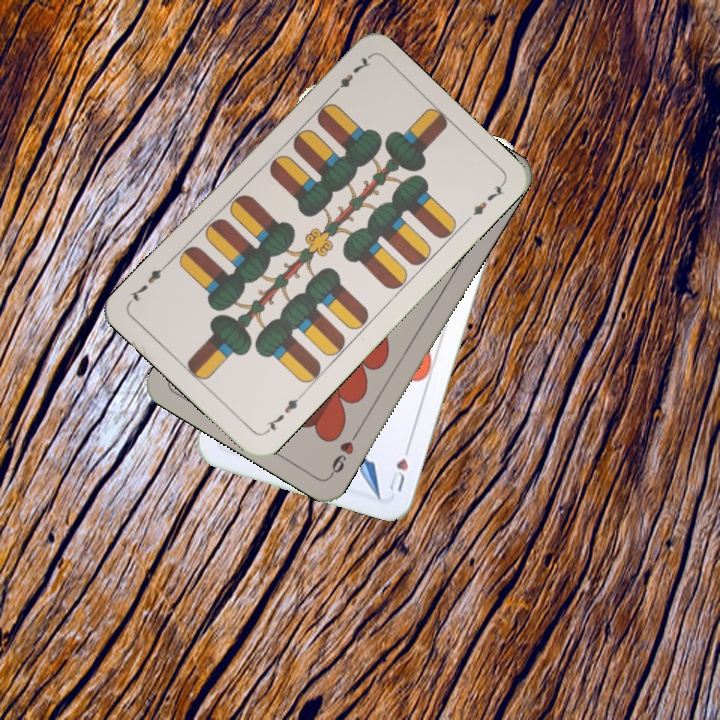E7: (327, 52, 374, 99), (260, 390, 306, 437)
H9: (326, 425, 362, 479)
HU: (385, 438, 414, 495)
